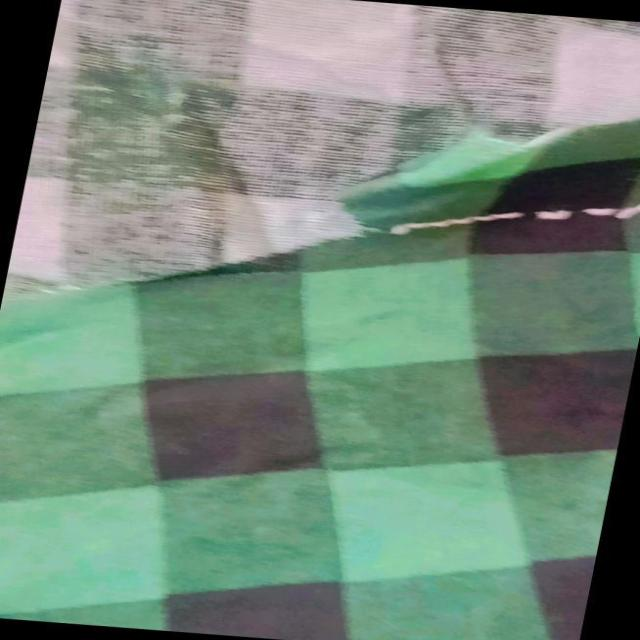cut: (138, 149, 419, 297)
